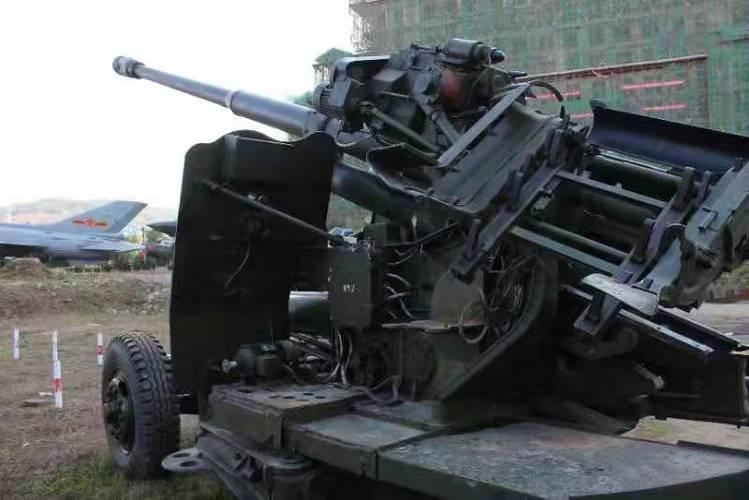MIL_SPG: (104, 39, 749, 499)
